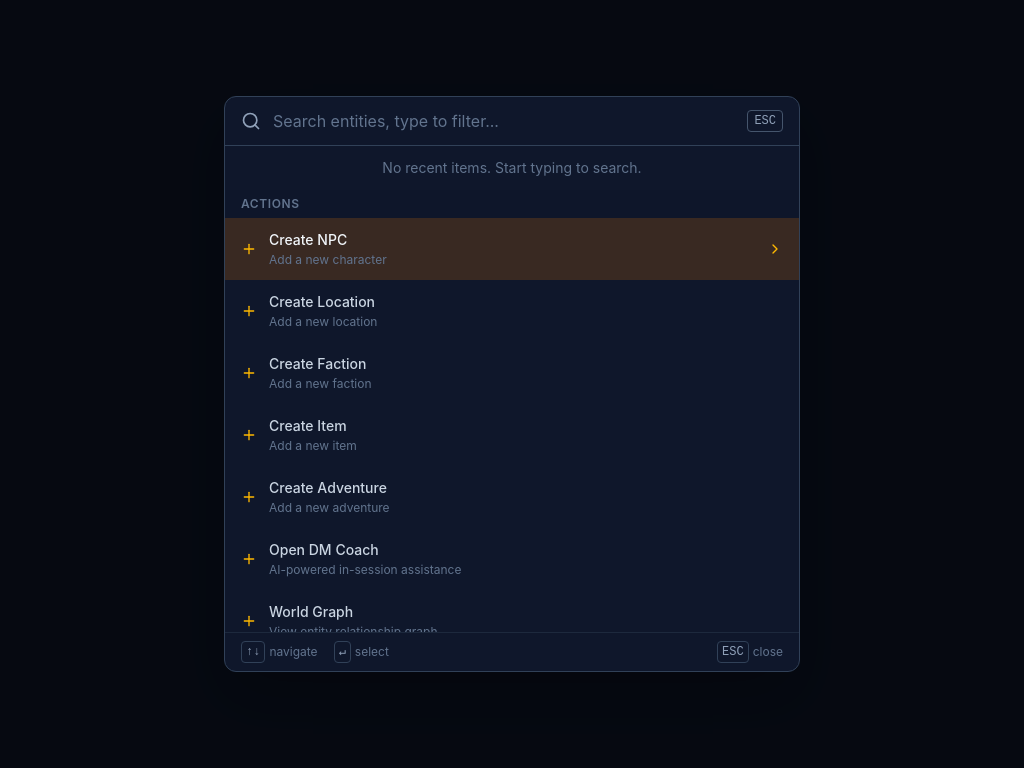
Test: wp-d-linking #98 — palette results need listbox semantics › marks the input as a combobox controlling a listbox of options
In the dropdown with placeholder "Search entities, type to filter...": point(504, 121) [273,109,735,133], type "Gatehouse"
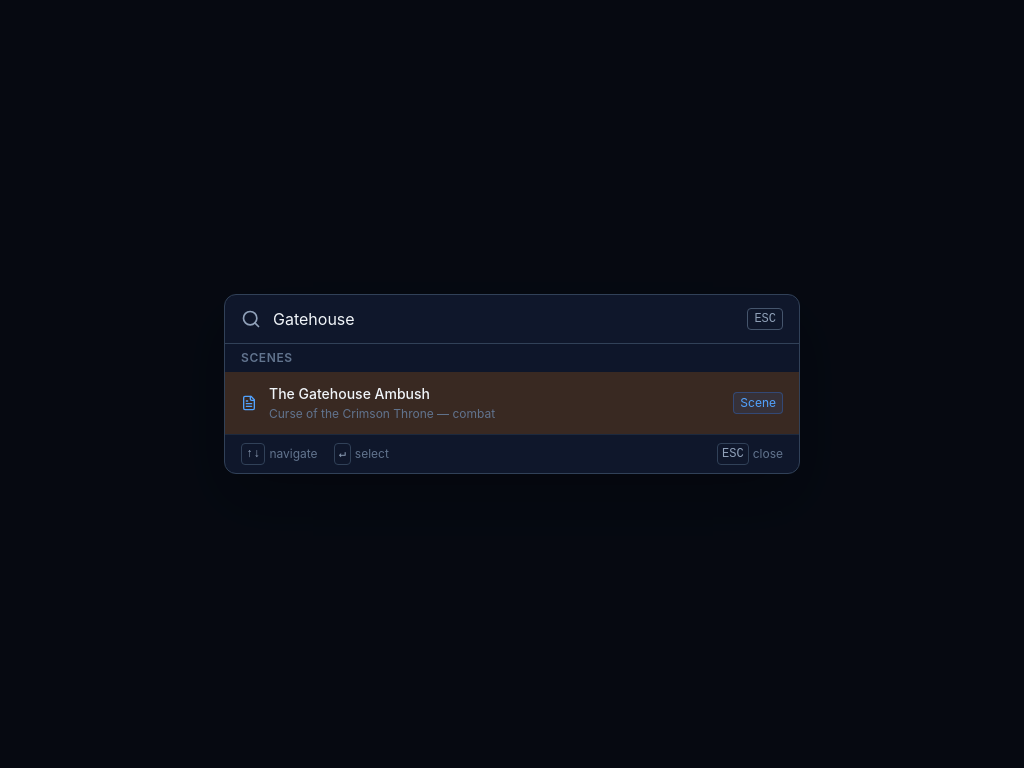
Check: the option is shown, box [225,372,799,434]
